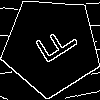F: (26, 21, 80, 71)
